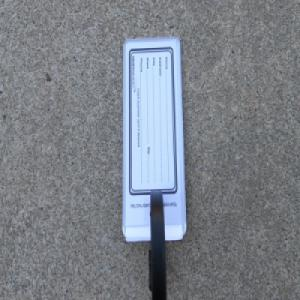LuggageTag: (120, 35, 187, 300)
